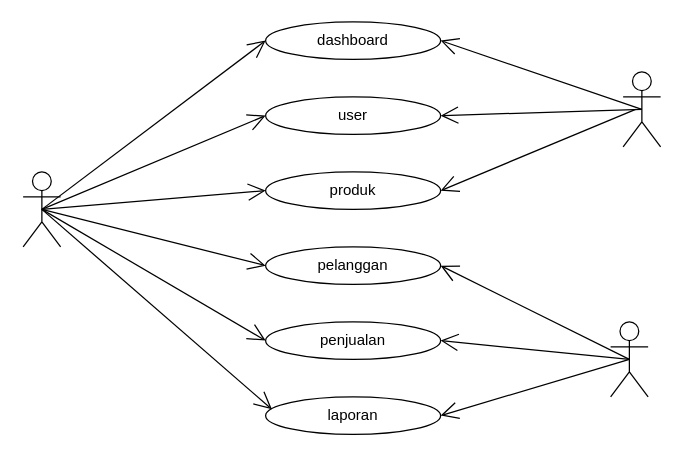
This 691x456 diagram has some shape labels left out. Each missing label, with the centre of its shape:
"admin" goes at [41,209].
"operator" goes at [641,109].
"pegawai" goes at [628,359].
